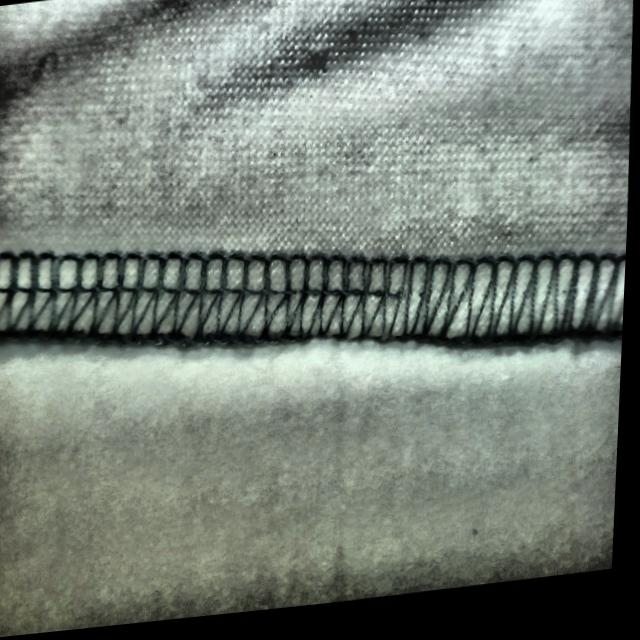Stitch: (180, 215, 601, 392)
